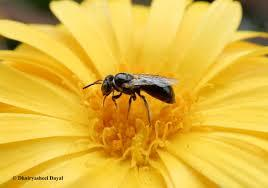Braunsapis: (78, 64, 180, 116)
